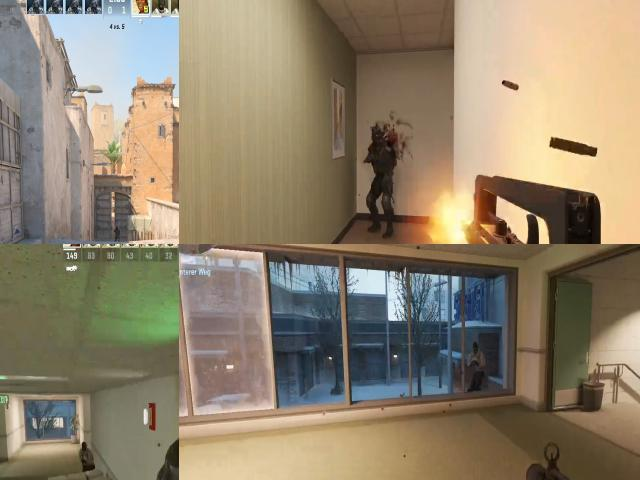CT: (367, 122, 396, 205), (114, 226, 120, 242)
CT-Head: (370, 123, 386, 151), (116, 226, 118, 228)
T: (79, 437, 97, 468)
T-Head: (470, 338, 486, 384), (472, 338, 482, 358), (81, 438, 90, 454)
